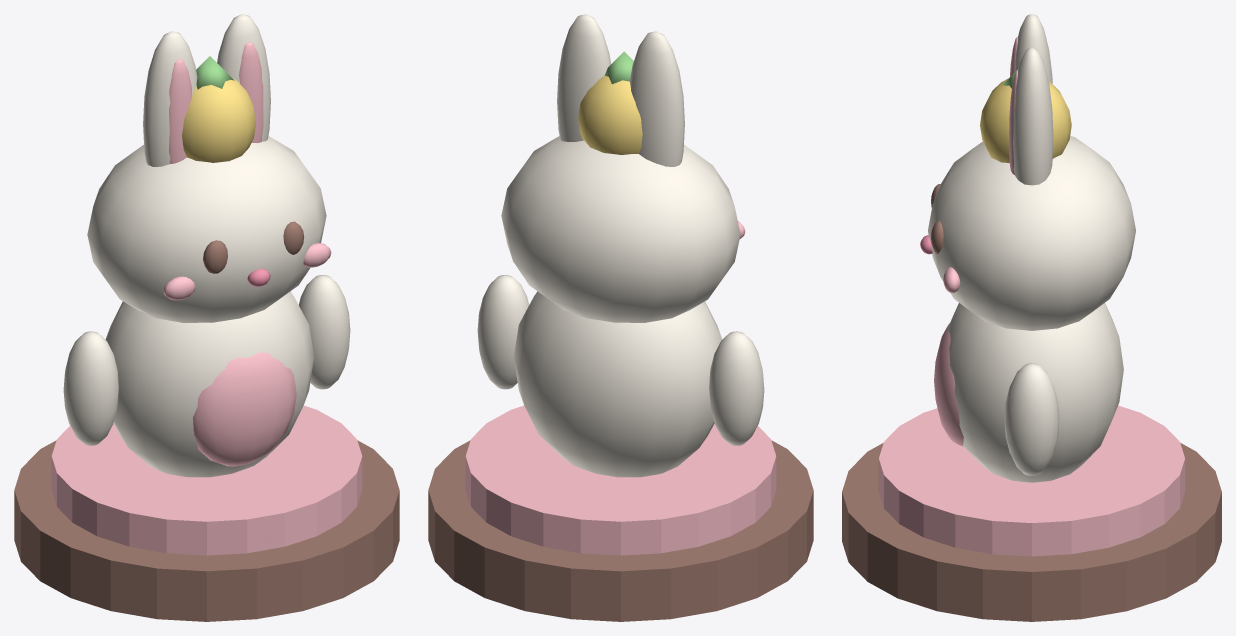
File: TrophyBunny.fbx
The picture shows the model from 3 angles, left to right: view 1: azimuth 30°, elevation 25°; view 2: azimuth 150°, elevation 25°; view 3: azimuth 270°, elevation 25°; orthographic projection.
Parts seen in each view (by area): view 1: Head, Pedestal_Base, Pedestal_Top, Body, Belly, ArmR_Mesh, Berry, ArmL_Mesh, EarR, EarL, EarR_In, EarL_In (+5 smaller); view 2: Head, Pedestal_Base, Pedestal_Top, Body, EarR, ArmR_Mesh, EarL, ArmL_Mesh, Berry, Leaf; view 3: Pedestal_Base, Pedestal_Top, Head, Body, ArmL_Mesh, EarL, Berry, Belly, EarR.
Part boxes in pixels (x1,y1,x2,y2): Head: (87,136,326,322); Pedestal_Base: (14,440,399,621); Pedestal_Top: (51,405,362,555); Body: (105,291,314,477); Belly: (193,352,296,466); ArmR_Mesh: (63,331,118,445); Berry: (181,78,255,162); ArmL_Mesh: (299,275,350,389); EarR: (143,31,197,166); EarL: (217,14,270,141); EarR_In: (169,59,191,163); EarL_In: (239,42,263,143); Head: (501,136,740,322); Pedestal_Base: (428,440,813,621); Pedestal_Top: (465,405,776,555); Body: (513,291,722,477); EarR: (630,31,684,166); ArmR_Mesh: (709,331,764,445); EarL: (557,14,610,141); ArmL_Mesh: (477,275,528,389); Berry: (578,75,642,154); Leaf: (604,51,633,84); Pedestal_Base: (842,443,1221,621); Pedestal_Top: (878,405,1185,556); Head: (928,136,1135,330); Body: (947,303,1123,482); ArmL_Mesh: (1004,363,1059,475); EarL: (1013,47,1053,185); Berry: (980,78,1071,163); Belly: (934,322,963,446); EarR: (1015,14,1052,83).
Bounding box in the file's own units: 1.24 × 1.84 × 1.24.
